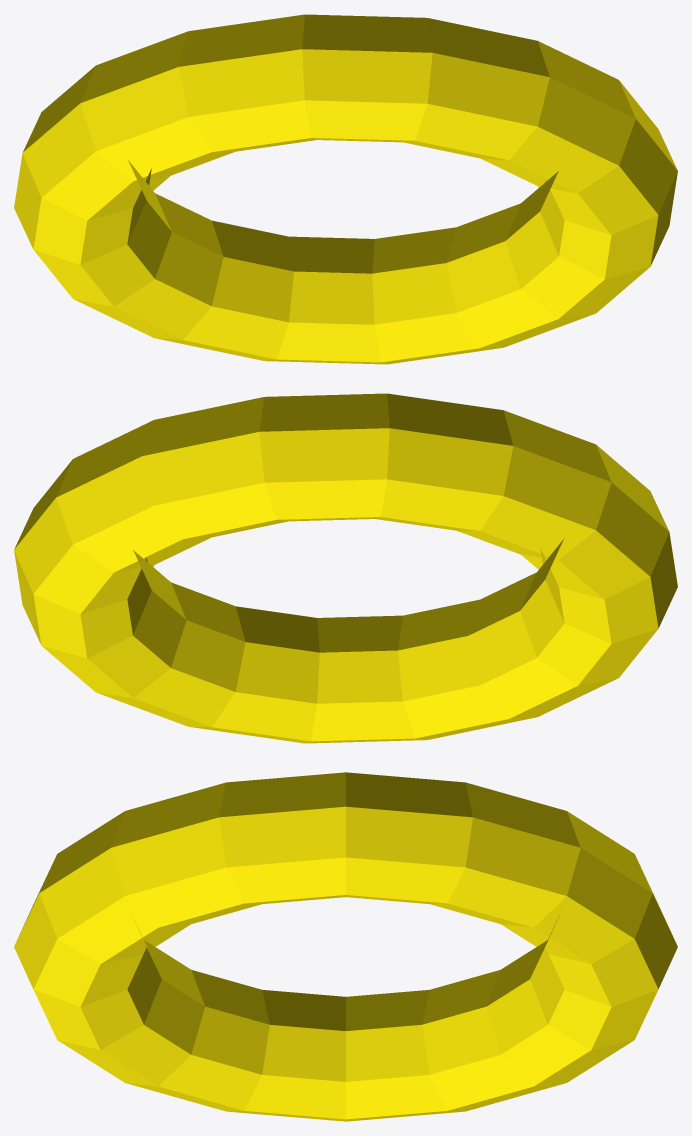
File: bracelet-tennis.glb
3 views of the same model, one above another, from view 1: azimuth 30°, elevation 25°; view 2: azimuth 150°, elevation 25°; view 3: azimuth 270°, elevation 25° (orthographic).
Parts seen in each view (by area): view 1: Ring; view 2: Ring; view 3: Ring.
Part boxes in pixels (bbox=[...]): Ring: bbox=[14, 14, 677, 364]; Ring: bbox=[14, 393, 677, 743]; Ring: bbox=[14, 772, 677, 1121].
Bounding box in the file's own units: 1.5 × 0.3 × 1.5.
